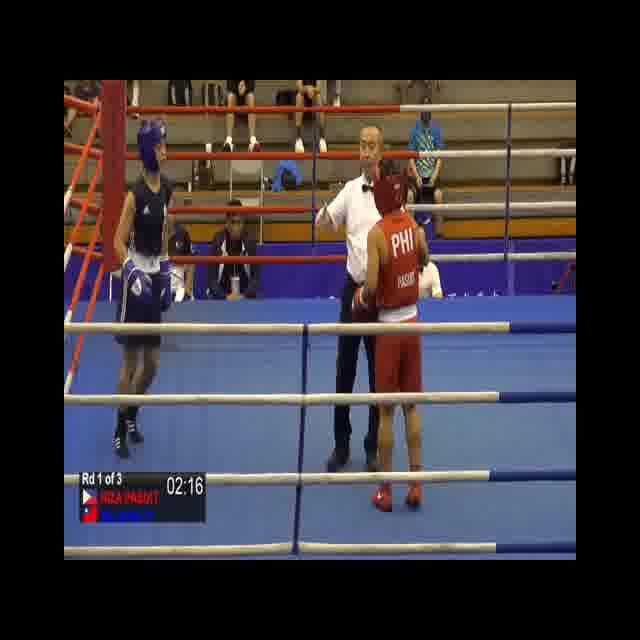blue-player: (110, 120, 173, 464)
red-player: (348, 155, 432, 518)
referee: (313, 122, 407, 483)
